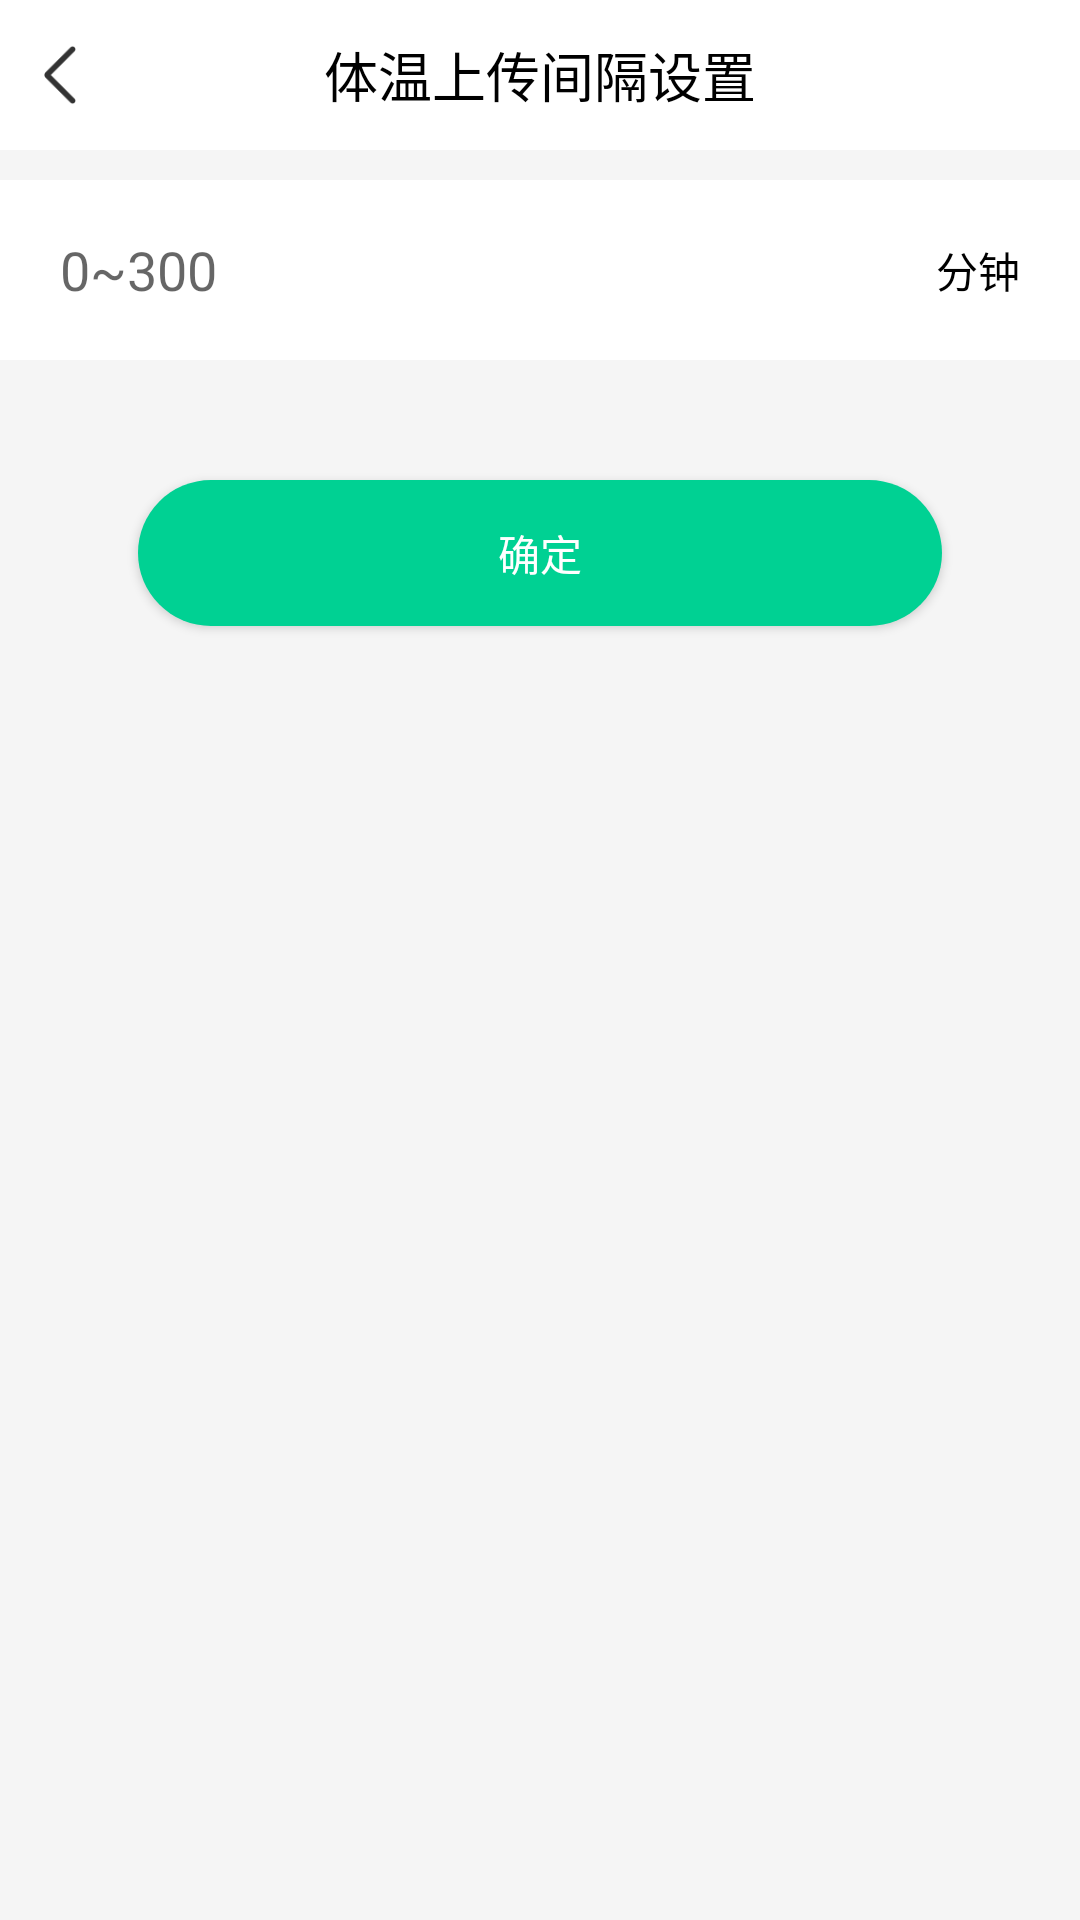

Icon click points for this 1080x1920 phone screenshot, format (x,y):
back: (60,75)
